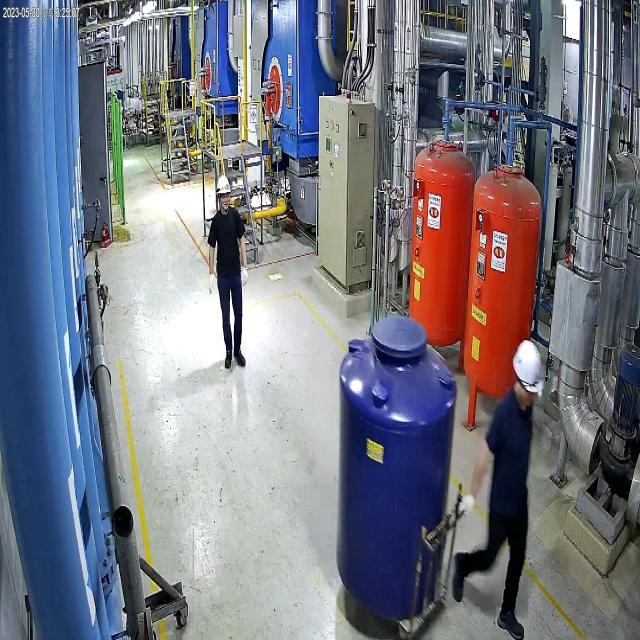Water Tank: (332, 310, 459, 625)
worker: (453, 338, 545, 640), (201, 162, 255, 390)
